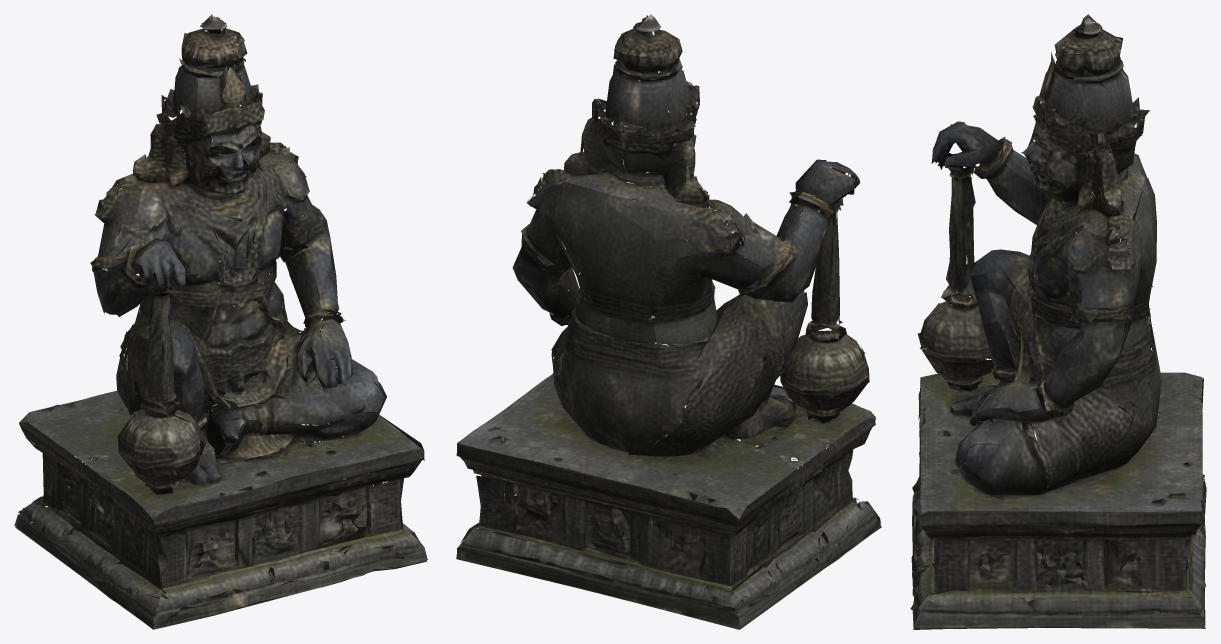
The model's file is rakshasa-statue.glb.
3 renders of one model, left to right at view 1: azimuth 30°, elevation 25°; view 2: azimuth 150°, elevation 25°; view 3: azimuth 270°, elevation 25°, orthographic. The views are drawn at different scales.
Parts seen in each view (by area): view 1: rakshasa-statue; view 2: rakshasa-statue; view 3: rakshasa-statue.
Part boxes in pixels (x1,y1,x2,y2): rakshasa-statue: [14, 14, 427, 629]; rakshasa-statue: [456, 14, 881, 629]; rakshasa-statue: [910, 14, 1206, 629].
Size of the model in its own units: 0.3526 by 0.6227 by 0.304.
1 material, 1 textured.
